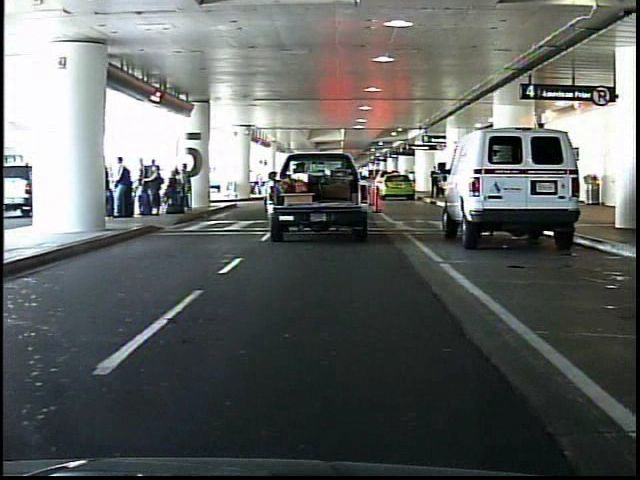person: (430, 165, 442, 201)
